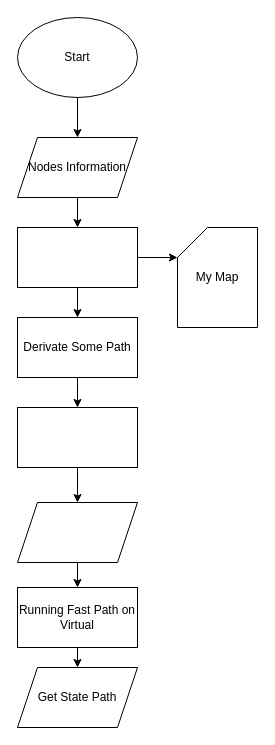
Some shapes in this 275 by 745 pixel diagram are drawn without their labels. The box of each missing label's shape, as (x1, y1, x2, y2) in pixels:
Calculate Weight of Nodes: (16, 226, 138, 288)
Get Fast Path (Nodes Pointer Array): (16, 502, 138, 562)
Select One Path: (16, 406, 138, 468)
